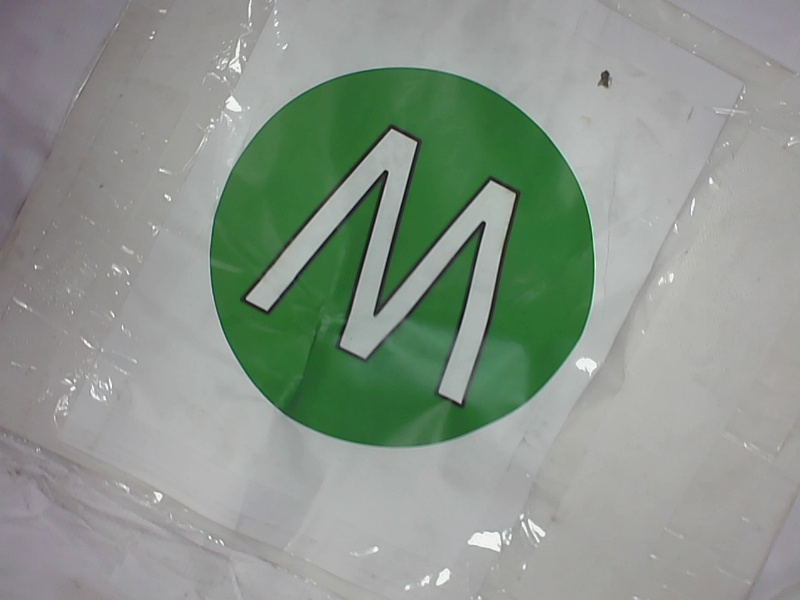areaB: (196, 63, 593, 450)
